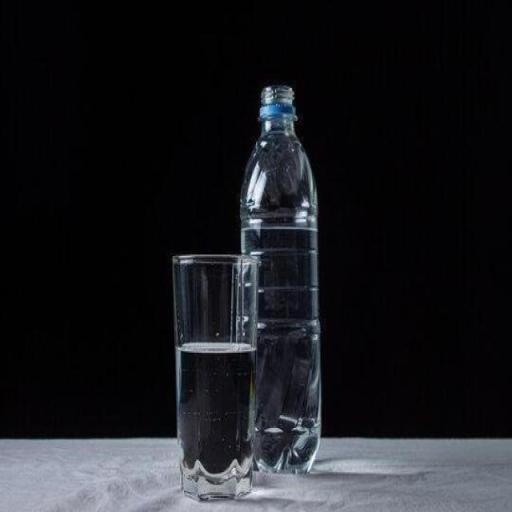plastic: (238, 80, 324, 478)
